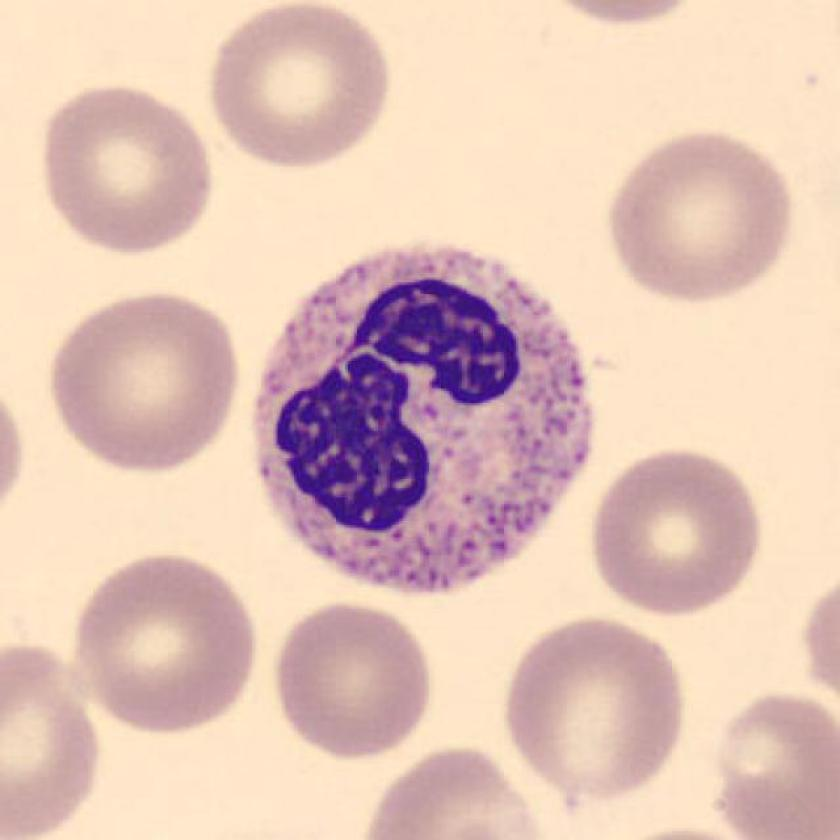neutrophil: (252, 246, 596, 587)
